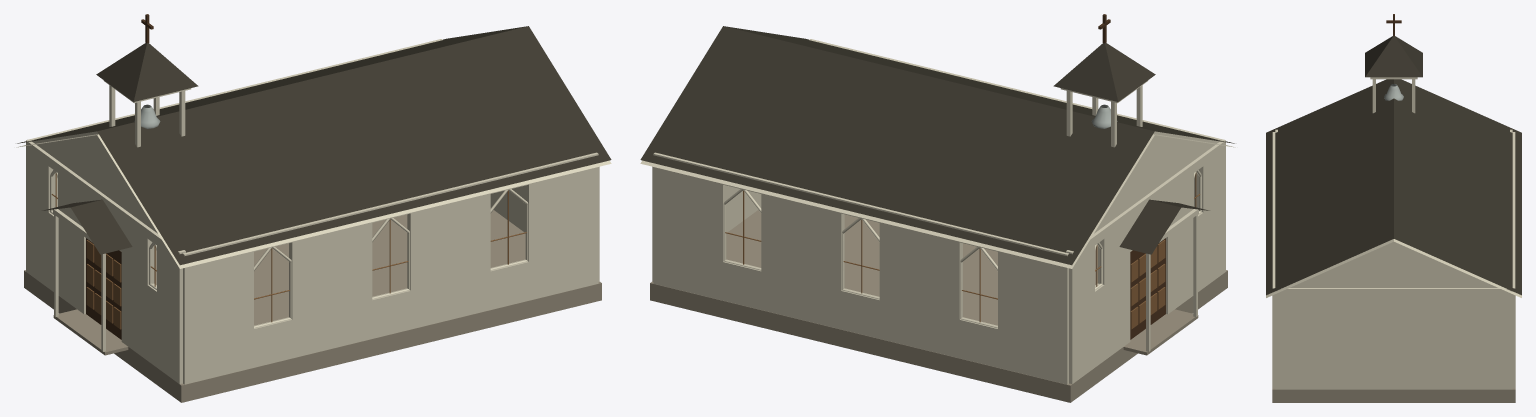
Rendered from SM_Town_Church_Shell_LOD1.fbx.
3 renders of one model, left to right at view 1: azimuth 30°, elevation 25°; view 2: azimuth 150°, elevation 25°; view 3: azimuth 270°, elevation 25°, orthographic. The views are drawn at different scales.
Parts seen in each view (by area): view 1: SM_Town_Church_Shell_LOD1; view 2: SM_Town_Church_Shell_LOD1; view 3: SM_Town_Church_Shell_LOD1.
Part boxes in pixels (bbox=[...]): SM_Town_Church_Shell_LOD1: bbox=[16, 14, 611, 402]; SM_Town_Church_Shell_LOD1: bbox=[640, 14, 1235, 402]; SM_Town_Church_Shell_LOD1: bbox=[1266, 14, 1521, 402].
Size of the model in its own units: 15.5 by 9.7 by 10.33.
